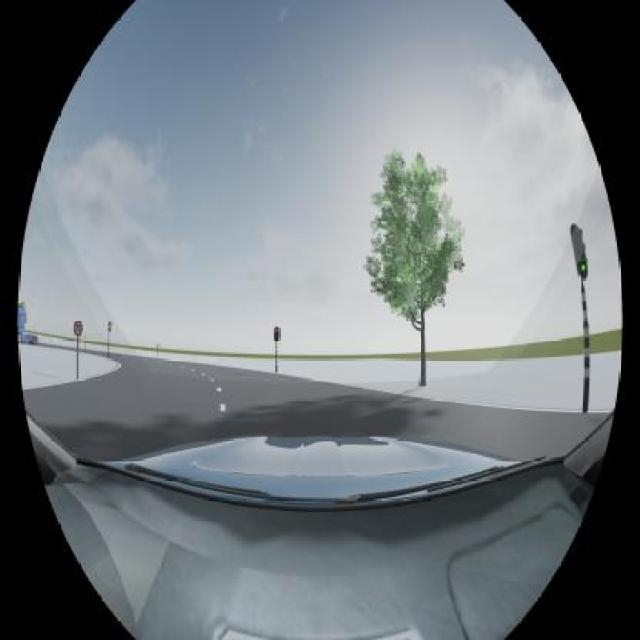forb_speed_over_70: (74, 320, 83, 335)
